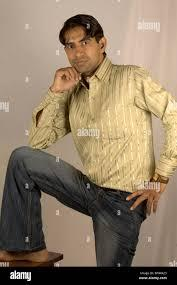Human: (8, 15, 177, 285)
